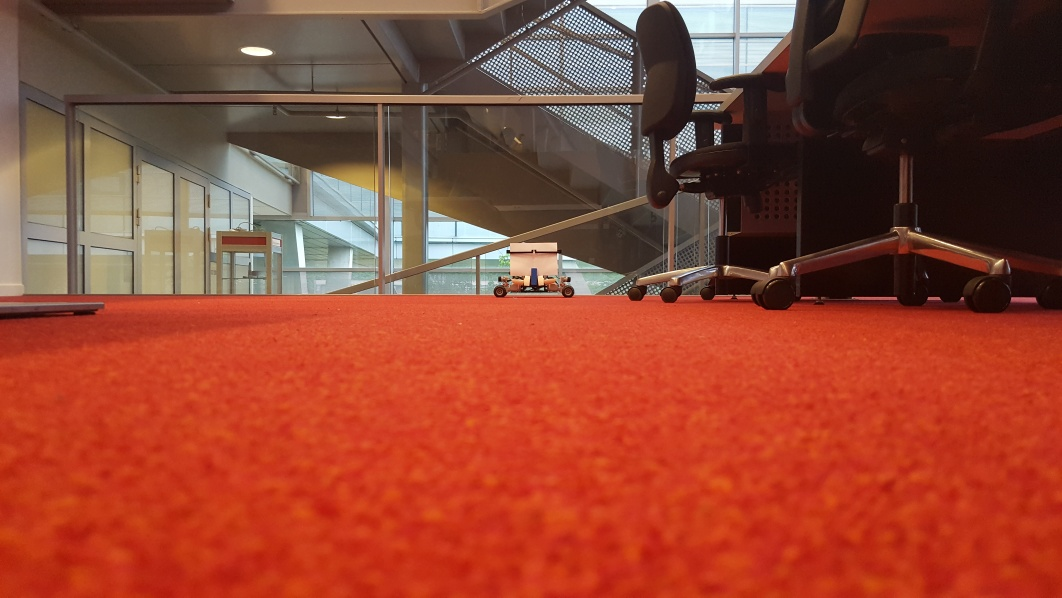car: (492, 242, 577, 297)
